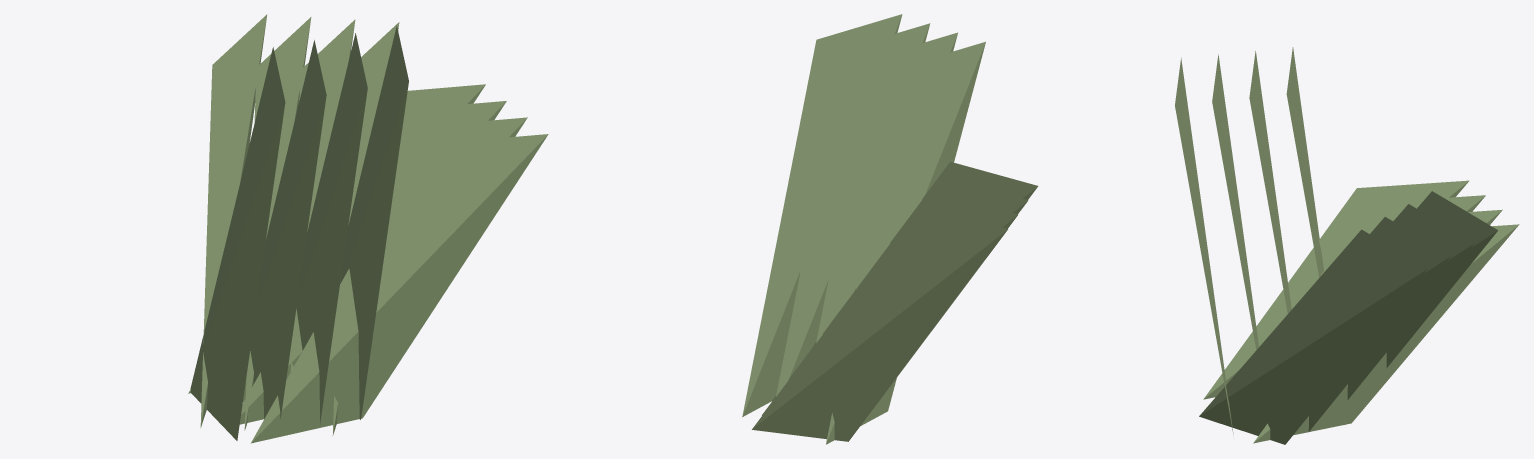
Rendered from grass-tuft.glb.
The picture shows the model from 3 angles, left to right: view 1: azimuth 30°, elevation 25°; view 2: azimuth 150°, elevation 25°; view 3: azimuth 270°, elevation 25°; orthographic projection. The views are drawn at different scales.
Parts seen in each view (by area): view 1: leaf; view 2: leaf; view 3: leaf.
Part boxes in pixels (<box>): leaf: <box>188,14,548,443</box>; leaf: <box>742,14,1038,444</box>; leaf: <box>1175,47,1519,444</box>.
Size of the model in its own units: 0.8764 by 0.7144 by 0.8261.
